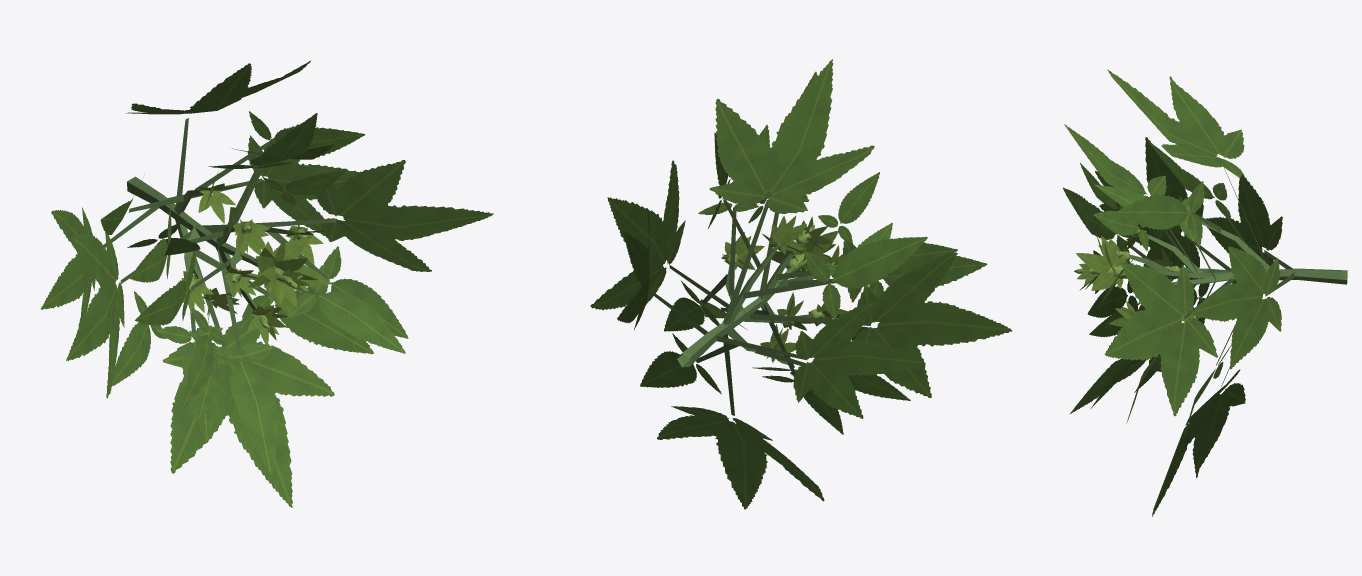
The model's file is p_auto_preflower_c0_cards.obj.
The picture shows the model from 3 angles, left to right: view 1: azimuth 30°, elevation 25°; view 2: azimuth 150°, elevation 25°; view 3: azimuth 270°, elevation 25°; orthographic projection. The views are drawn at different scales.
Bounding box in the file's own units: 1.28 × 1.31 × 0.733.
1 material, 1 textured.
